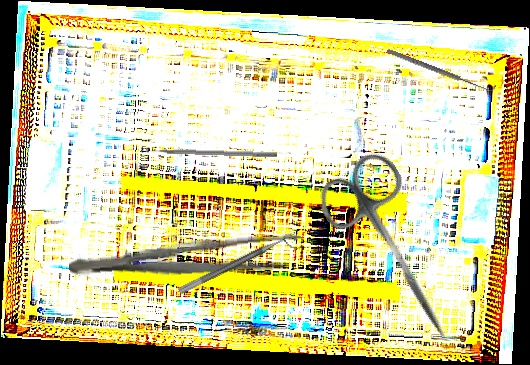Dressing Forceps: (67, 228, 305, 290)
Fixation Ring: (177, 230, 302, 305)
Hook Surgical: (385, 43, 497, 96), (142, 146, 278, 158)
Iris Scissors: (308, 145, 486, 361)
